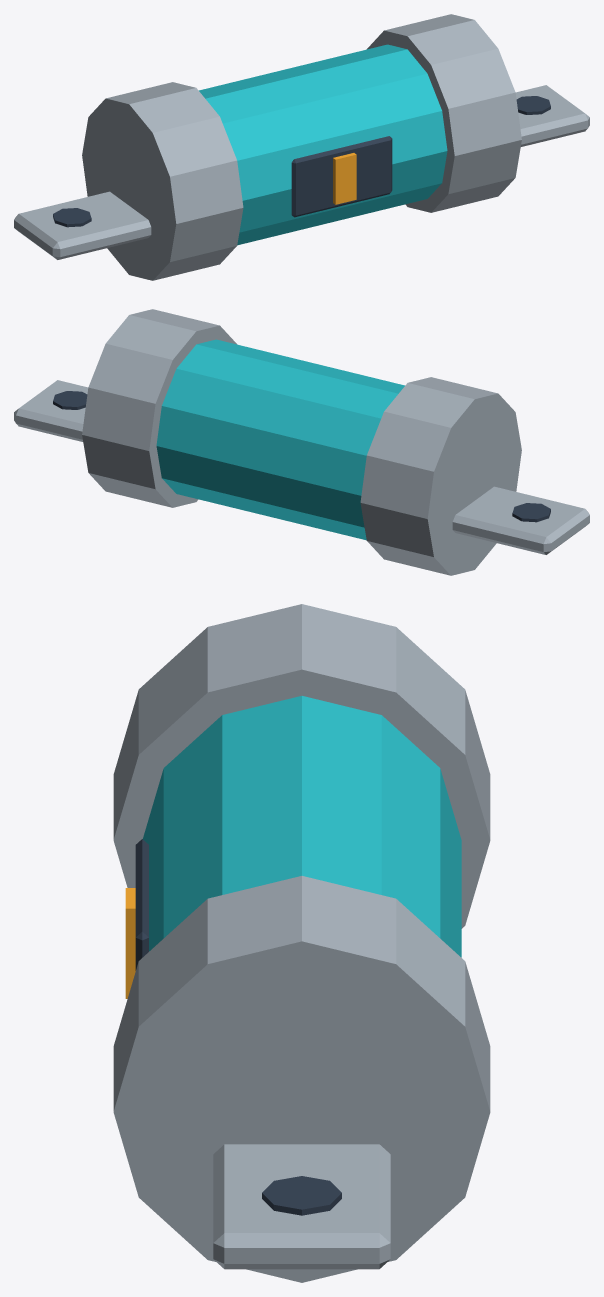
The model's file is Item_IndustrialFuse.fbx.
The picture shows the model from 3 angles, top to bottom: view 1: azimuth 30°, elevation 25°; view 2: azimuth 150°, elevation 25°; view 3: azimuth 270°, elevation 25°; orthographic projection. The views are drawn at different scales.
Parts seen in each view (by area): view 1: Item_IndustrialFuse; view 2: Item_IndustrialFuse; view 3: Item_IndustrialFuse.
Part boxes in pixels (x1,y1,x2,y2): Item_IndustrialFuse: (14,14,589,280); Item_IndustrialFuse: (14,309,589,575); Item_IndustrialFuse: (113,604,490,1282).
Bounding box in the file's own units: 0.5595 × 0.17 × 0.17.
